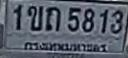1: (13, 3, 22, 30), (100, 8, 108, 34)
3: (110, 9, 123, 34)
5: (67, 7, 80, 32)
8: (82, 7, 95, 33)
A02: (27, 5, 43, 31)
A22: (45, 6, 61, 32)
BKK: (21, 40, 107, 54)
